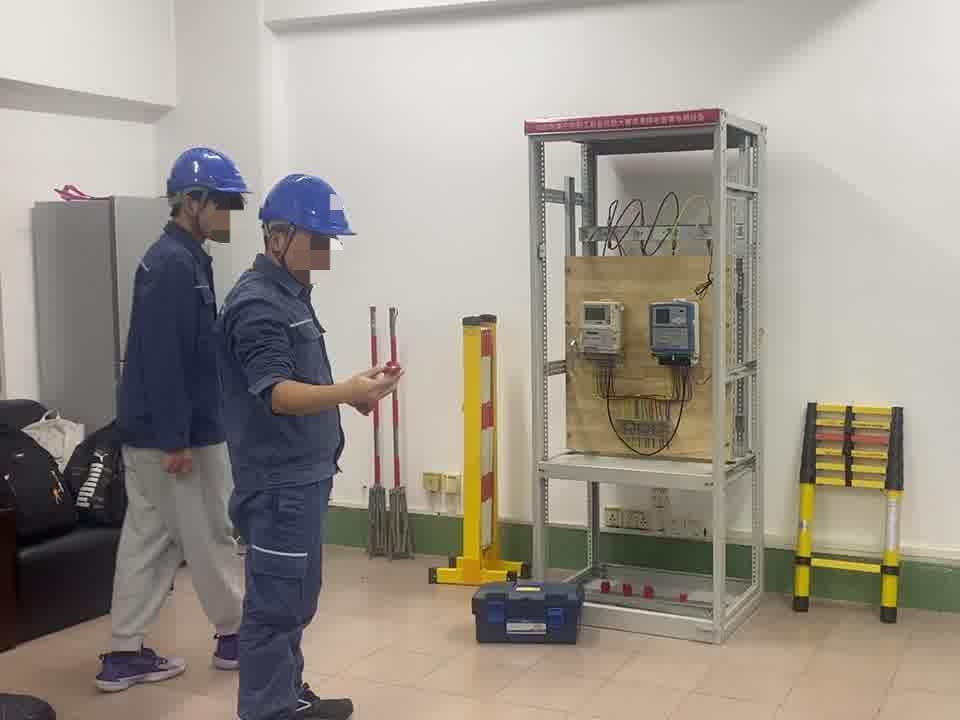halt: (259, 175, 355, 285), (166, 147, 251, 244)
inear: (180, 190, 214, 232), (269, 225, 299, 266)
